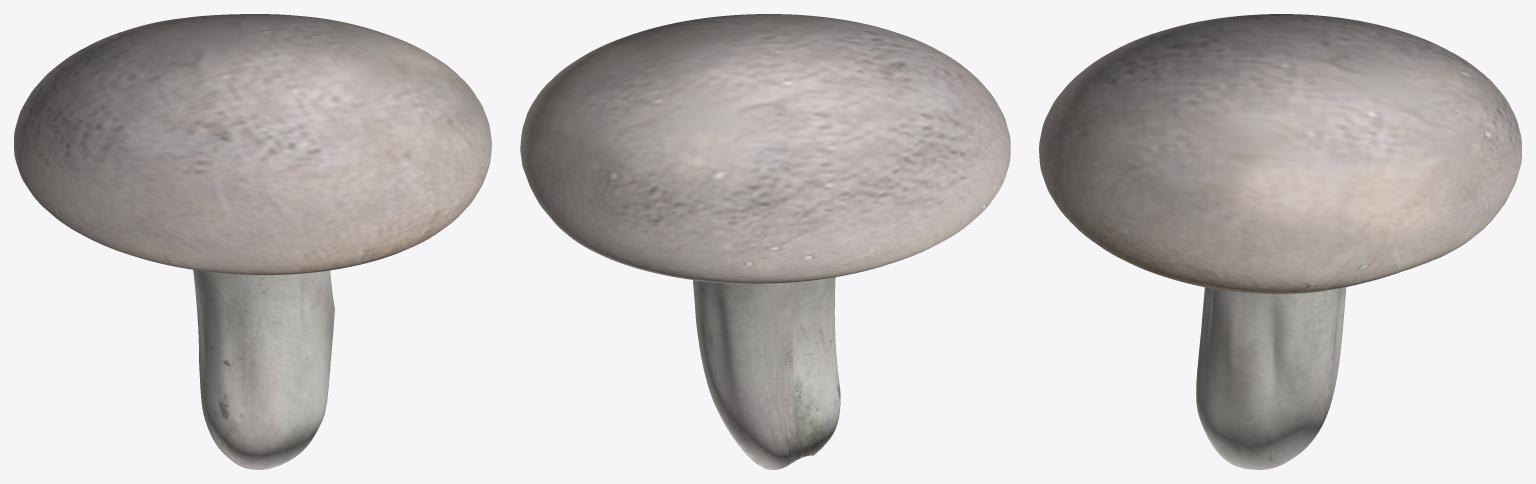
Rendered from SENE_22.fbx.
3 renders of one model, left to right at view 1: azimuth 30°, elevation 25°; view 2: azimuth 150°, elevation 25°; view 3: azimuth 270°, elevation 25°, orthographic. The views are drawn at different scales.
Parts seen in each view (by area): view 1: SENE_22; view 2: SENE_22; view 3: SENE_22.
Boxes of the visible parts, x1,y1,x2,y2 form: SENE_22: (14, 14, 491, 469); SENE_22: (520, 14, 1010, 469); SENE_22: (1039, 14, 1521, 469).
Size of the model in its own units: 55.43 by 49.15 by 55.03.
1 material, 1 textured.
